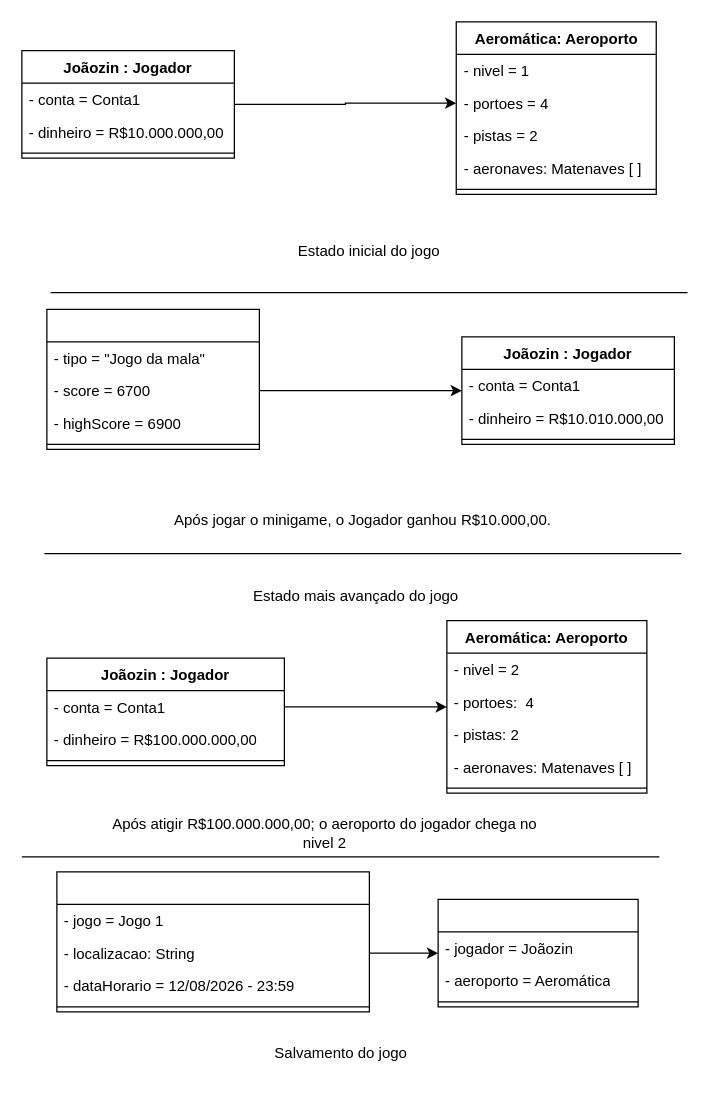
This 711x1094 diagram has some shape labels left out. The box of each missing label's shape, as (x1, y1, x2, y2) in pixels:
Jogo 1 : Jogo: (437, 898, 638, 1007)
Minigame: (46, 308, 259, 449)
Save: (56, 871, 369, 1012)
